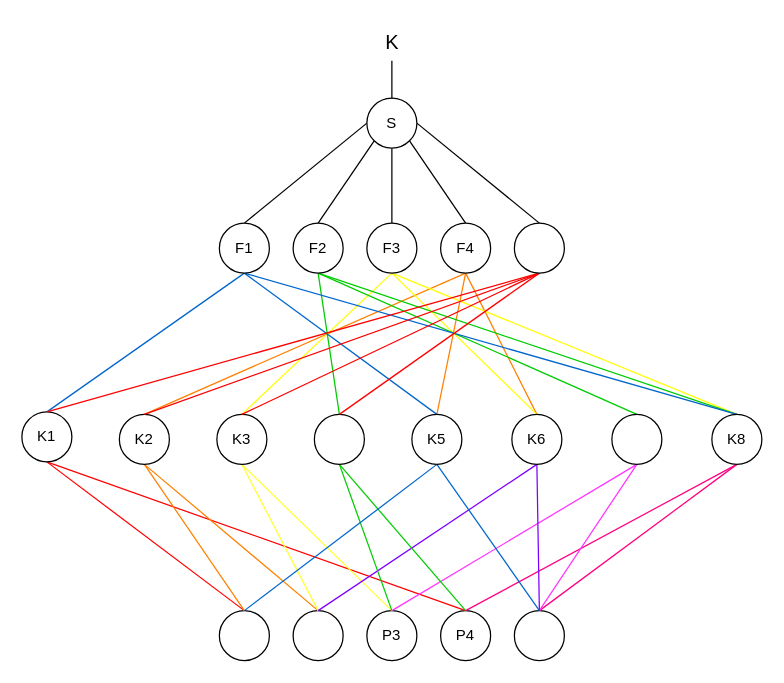
Some shapes in this 784 by 683 pixel diagram are drawn without their labels. Here are the shapes that lost their labels. From the top down, the box of each, then its label:
(513, 222, 564, 273): F5
(313, 413, 364, 464): K4
(611, 413, 662, 464): K7
(218, 609, 269, 661): P1
(292, 609, 343, 661): P2
(513, 609, 564, 661): P5
